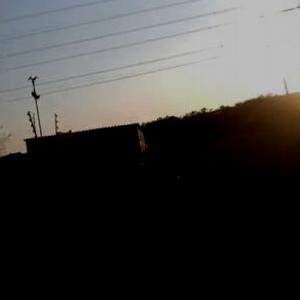follow: (114, 130, 189, 298)
